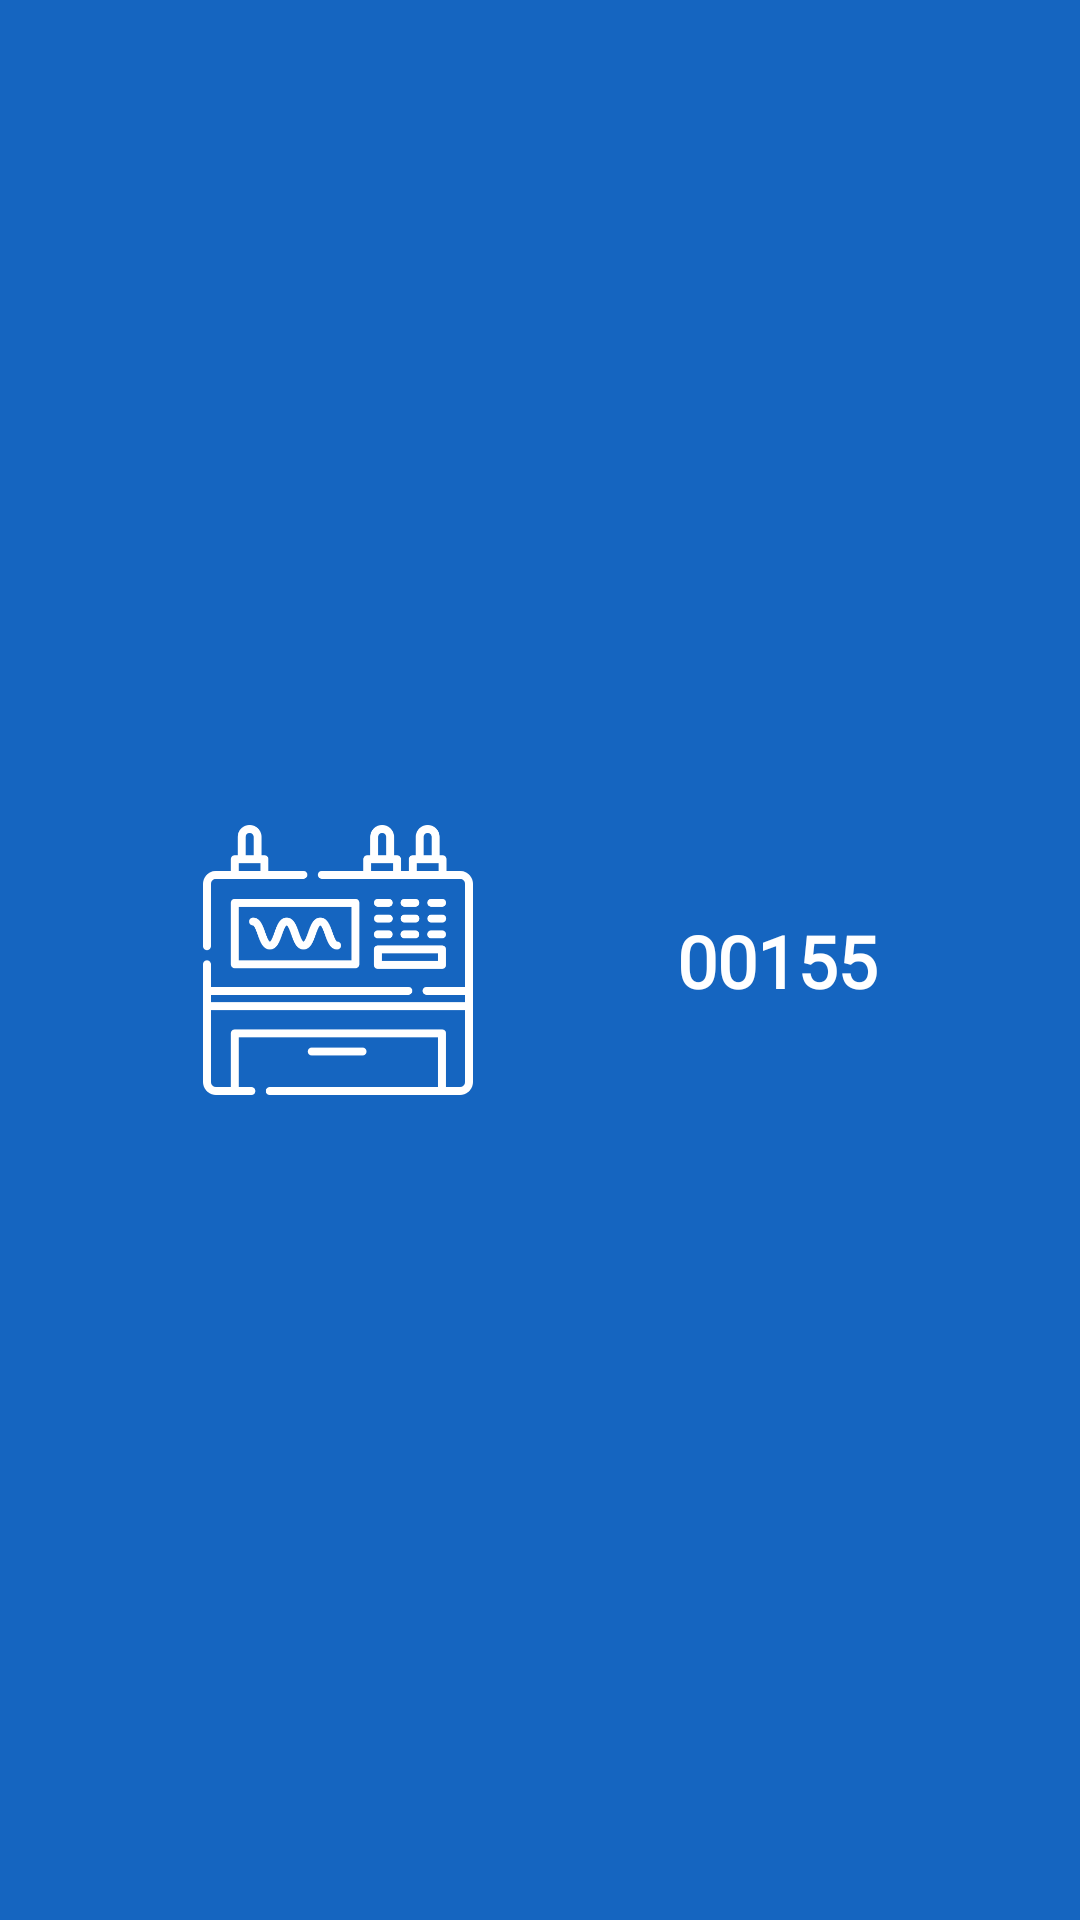

Where icons sit on this 1080×1920 app screen, as bbox=[x1, y1, x2, y2]:
machinery: bbox=[203, 825, 473, 1095]
